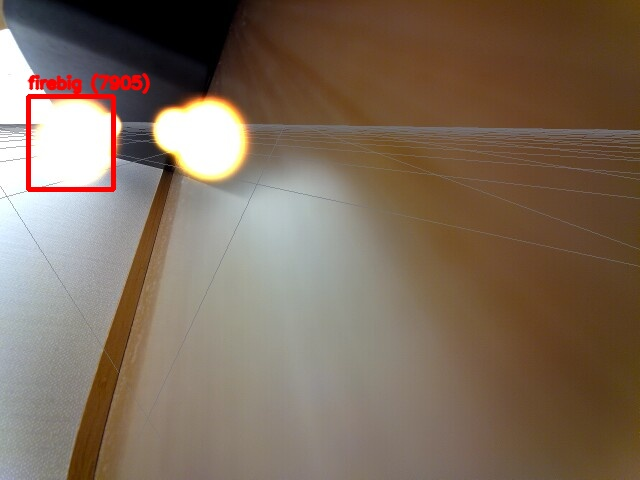firebig: (28, 96, 113, 189)
